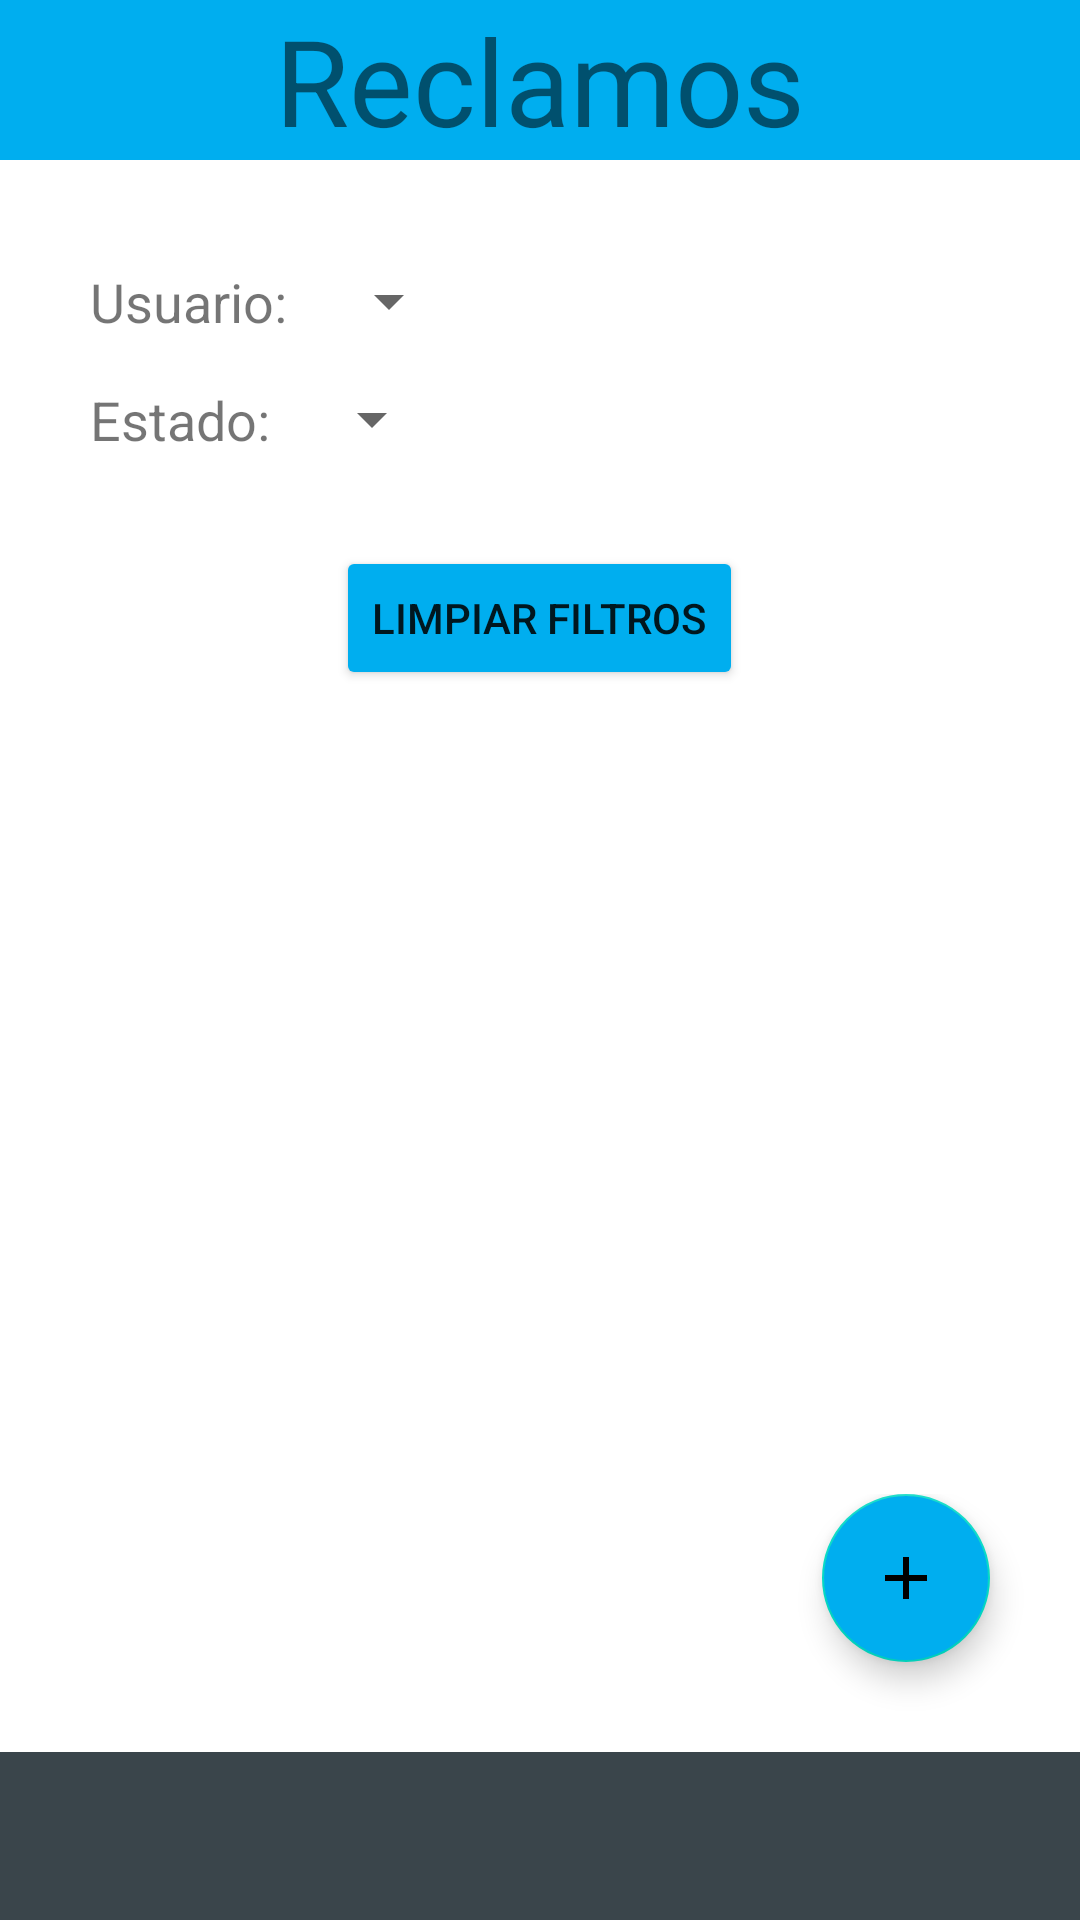

Icon bounding boxes for this 1080w x 1920h phone screenshot, format [left=x1, top=y1, right=x2, bottom=y2]:
add: [left=822, top=1494, right=990, bottom=1662]
